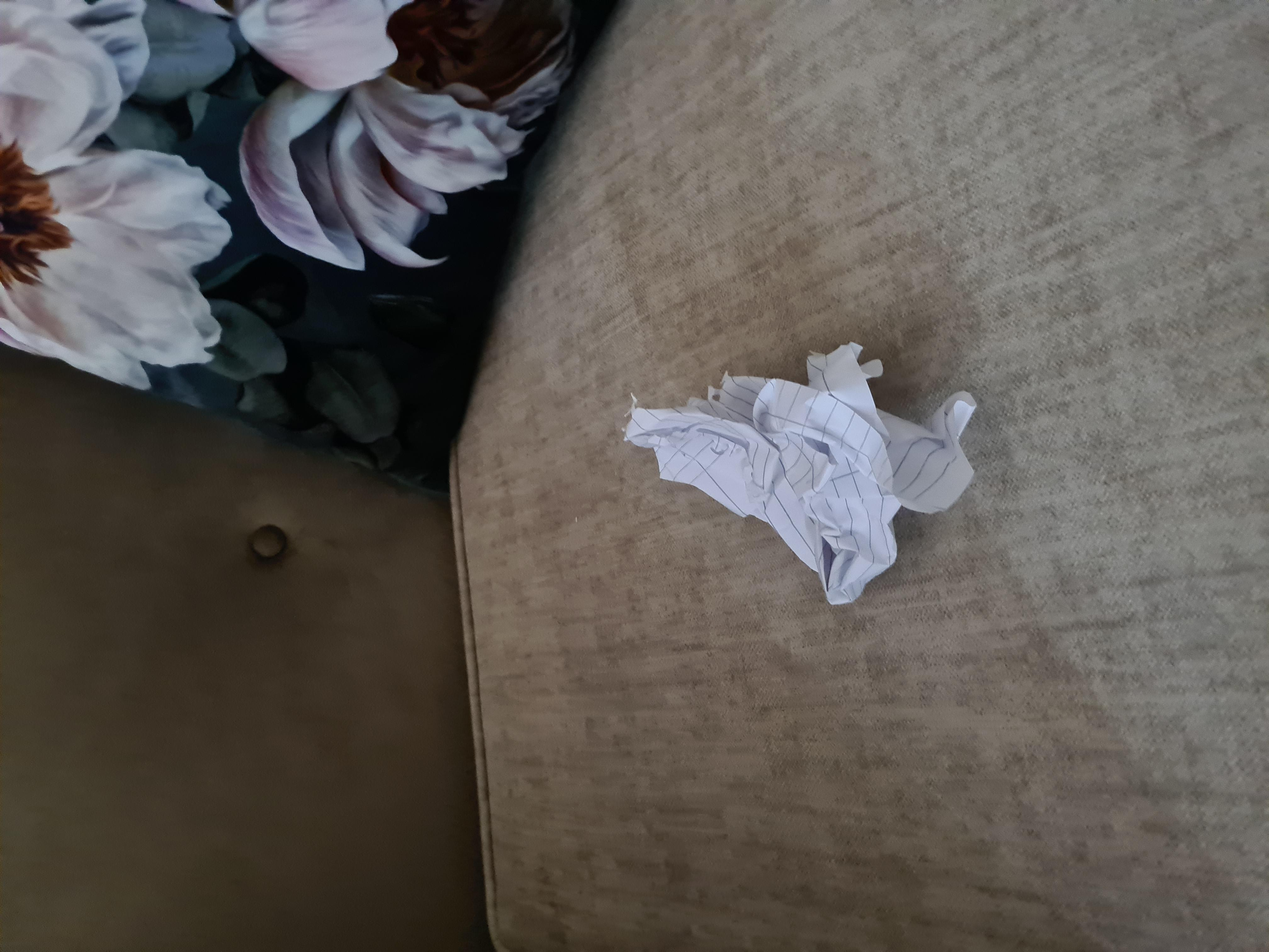paper: (475, 466, 795, 728)
